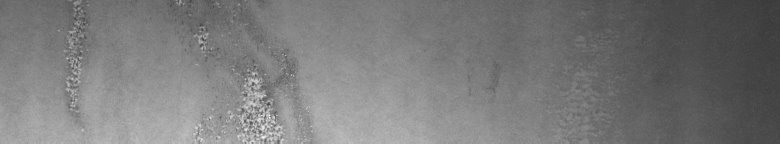hc: (167, 4, 298, 136)
